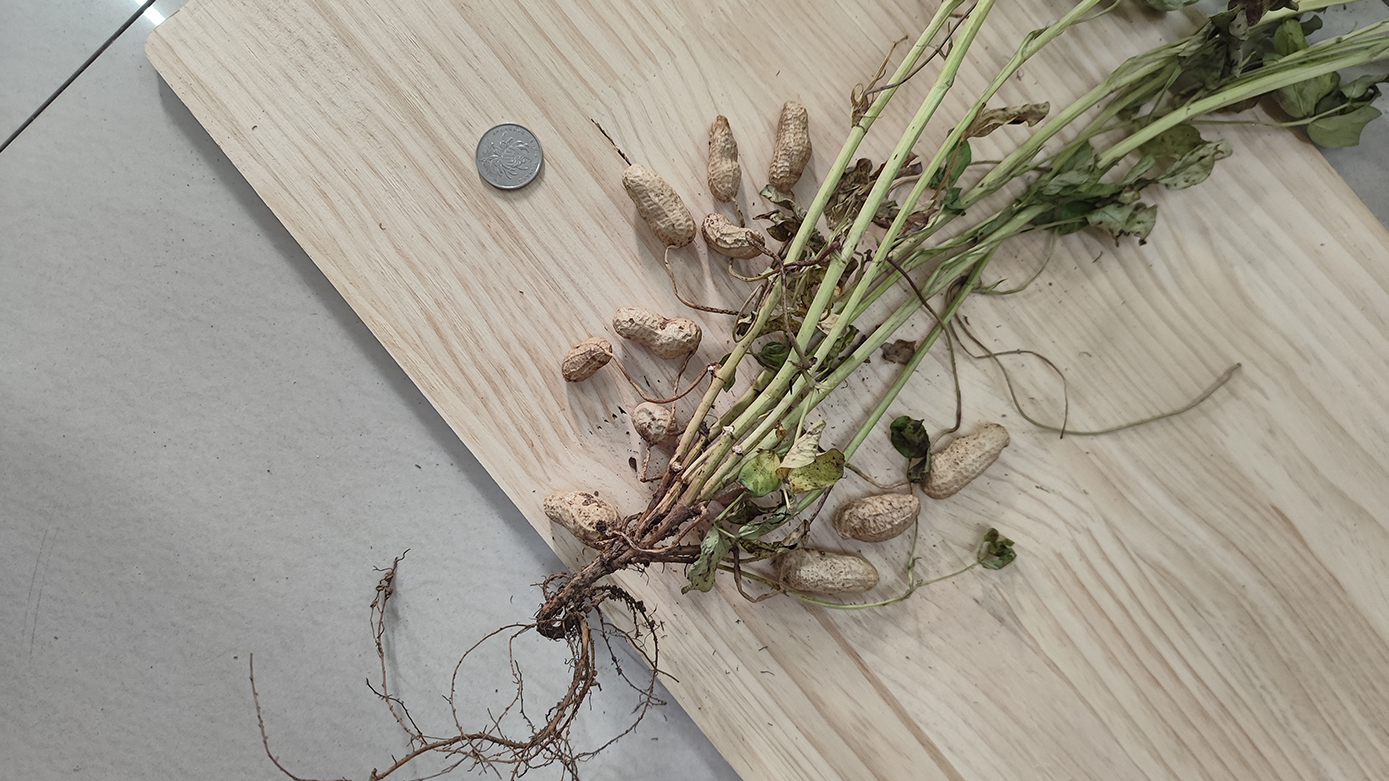h: (924, 422, 1011, 498), (621, 162, 696, 248), (778, 547, 880, 596), (613, 306, 702, 357), (836, 492, 921, 543), (545, 490, 621, 547), (768, 99, 811, 192), (706, 116, 742, 203), (702, 214, 765, 259), (560, 337, 614, 383), (631, 399, 676, 443)
